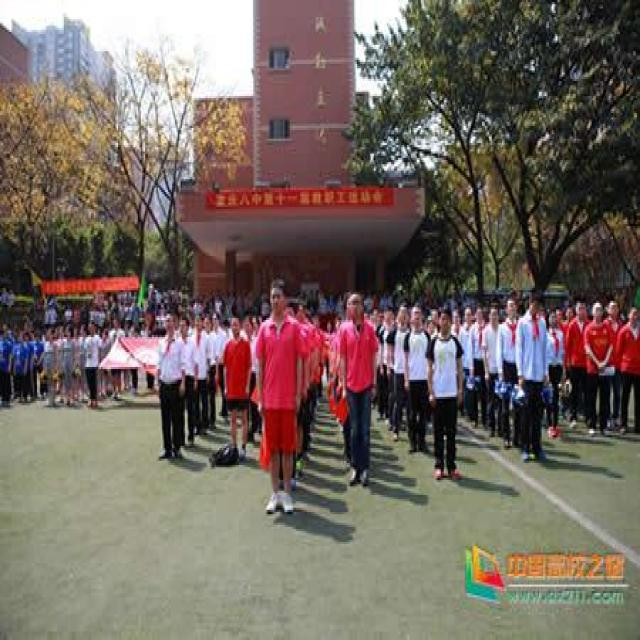non-fight: (246, 282, 314, 520), (328, 288, 386, 486), (505, 290, 559, 463), (425, 303, 468, 478), (402, 306, 434, 462), (328, 315, 356, 475), (224, 314, 254, 460), (157, 314, 186, 458), (584, 303, 614, 436), (495, 300, 520, 447), (563, 298, 590, 430), (179, 315, 205, 448), (612, 305, 638, 433), (480, 302, 504, 439), (467, 304, 489, 434), (208, 314, 230, 432), (82, 321, 102, 408), (107, 321, 125, 399), (12, 334, 30, 404), (61, 327, 76, 406), (41, 329, 56, 405), (31, 329, 45, 402), (0, 328, 13, 406)
